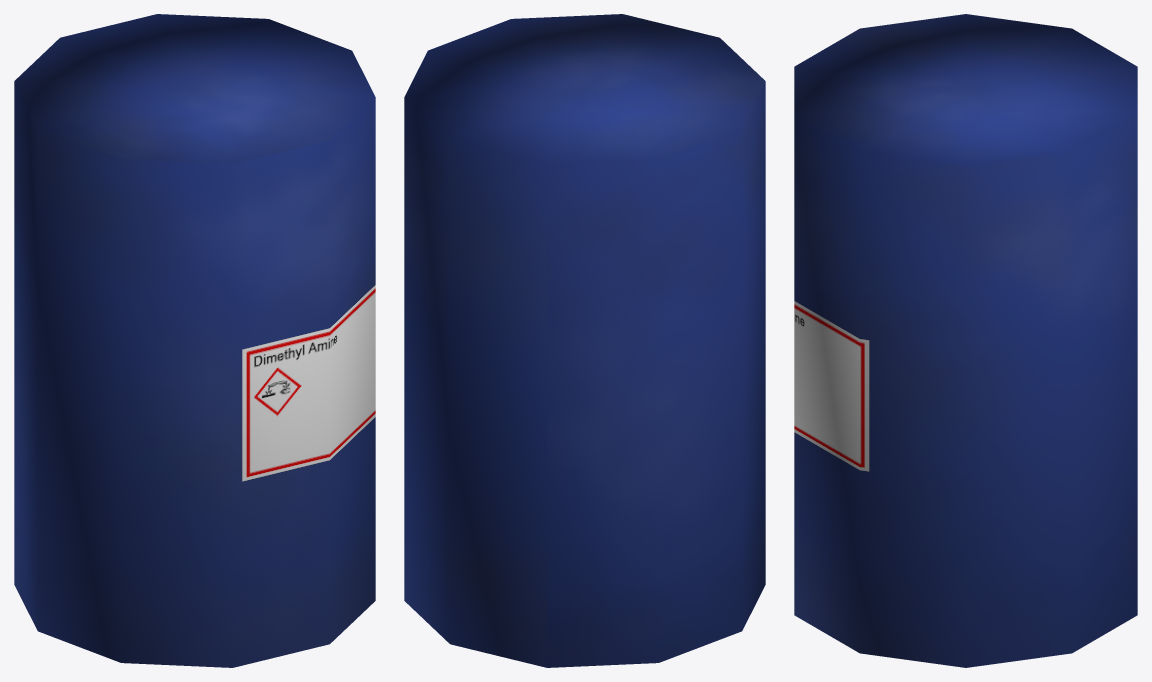
The model's file is dimethylAmine_L.fbx.
3 views of the same model, side by side, from view 1: azimuth 30°, elevation 25°; view 2: azimuth 150°, elevation 25°; view 3: azimuth 270°, elevation 25° (orthographic).
Parts seen in each view (by area): view 1: dimethylAmine_L; view 2: dimethylAmine_L; view 3: dimethylAmine_L.
Part boxes in pixels (x1=…): dimethylAmine_L: x1=14, y1=14, x2=375, y2=667; dimethylAmine_L: x1=404, y1=14, x2=765, y2=667; dimethylAmine_L: x1=794, y1=14, x2=1137, y2=667.
Size of the model in its own units: 0.3862 by 0.5914 by 0.3673.
1 material, 1 textured.
